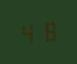eight: (38, 20, 56, 42)
four: (19, 21, 37, 44)
